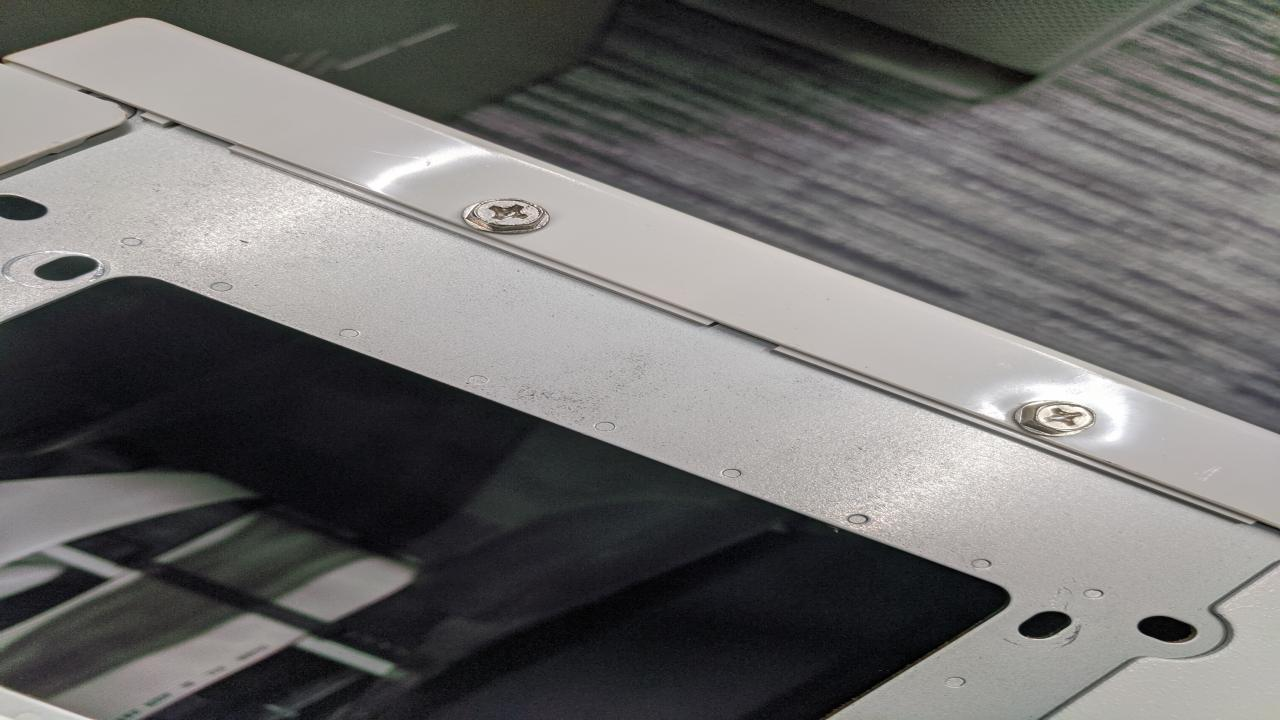CRS: (1014, 400, 1098, 434), (469, 198, 548, 230)
